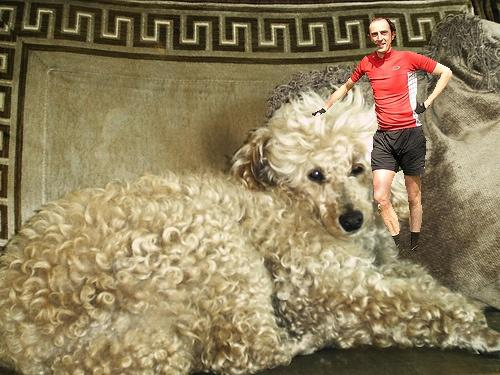tampered: (313, 18, 452, 251)
